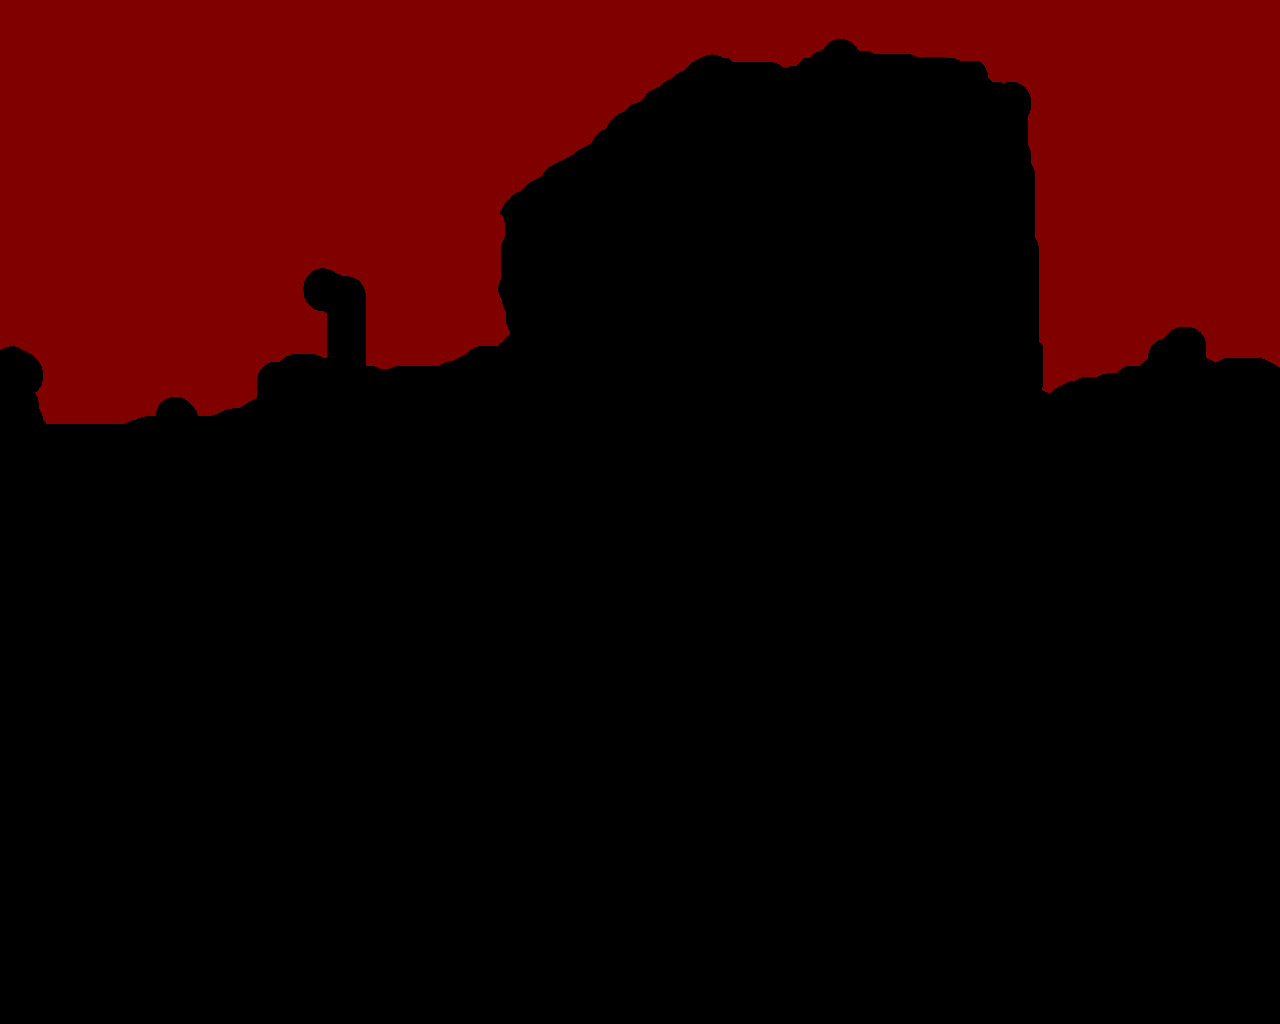Sky: (1, 1, 1279, 424)
